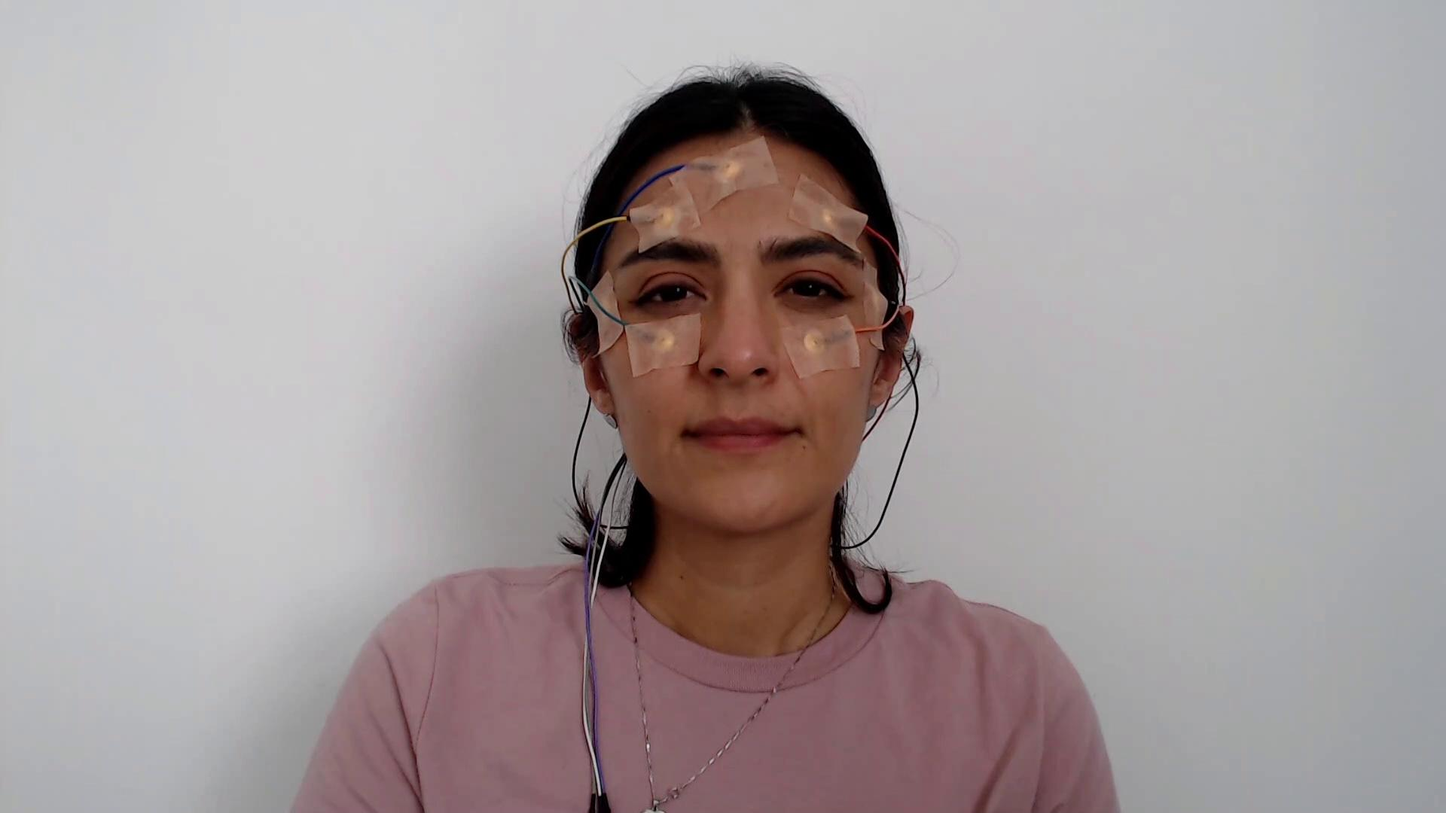Iris: (659, 287, 688, 301), (793, 282, 822, 295)
Ojos: (633, 270, 708, 308), (776, 265, 849, 304)
